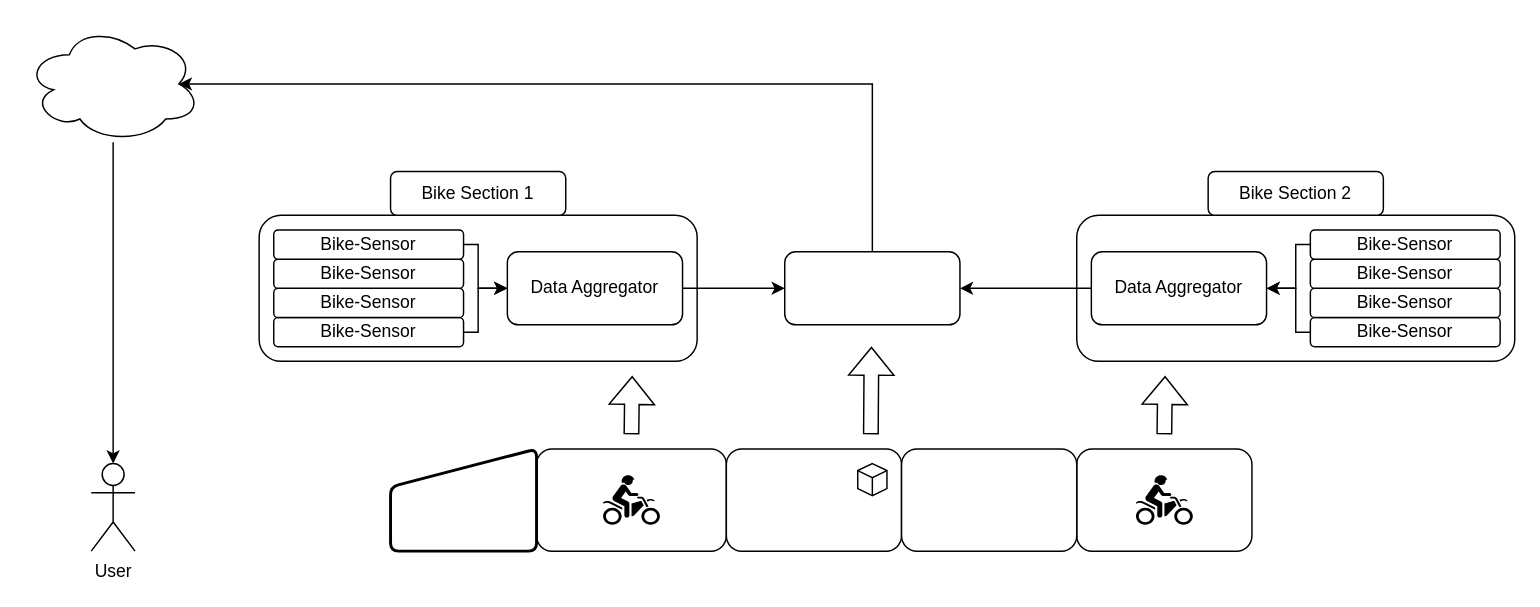
This 1540x607 diagram has some shape labels left out. The centre of each missing label's shape, as x and y in pixels:
"Cloud Server" goes at (x=112, y=83).
"Master Controller" goes at (x=871, y=287).
